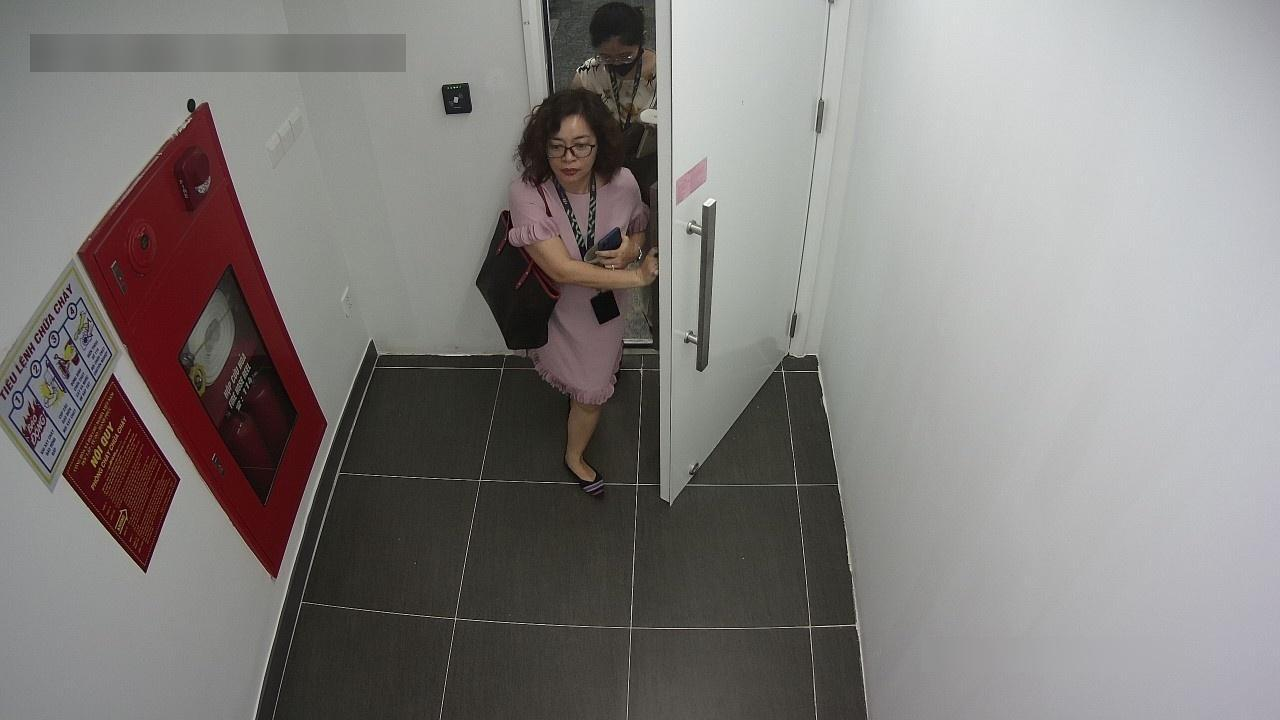mask: (591, 28, 646, 81)
no_apron: (593, 236, 657, 278)
no_gloves: (484, 83, 642, 197), (575, 0, 661, 61)
no_hairnet: (535, 107, 605, 185)
